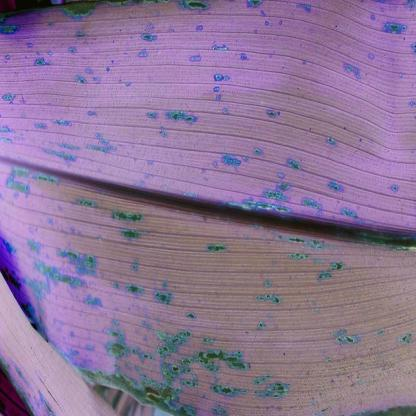Corn Gray leaf spot: (0, 1, 154, 153)
